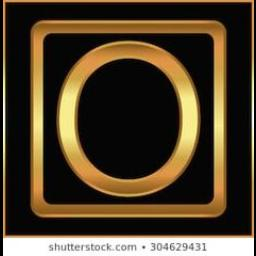o: (56, 40, 198, 198)
